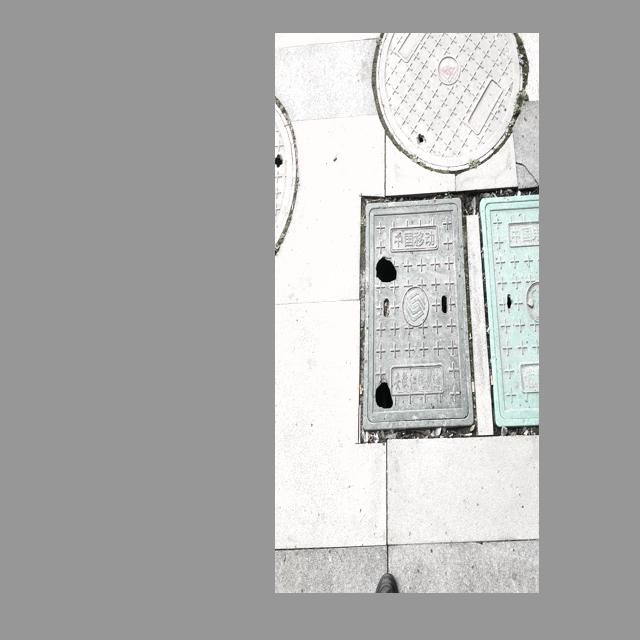broke: (362, 194, 474, 425), (375, 33, 524, 171), (478, 194, 539, 426), (275, 103, 295, 260)
